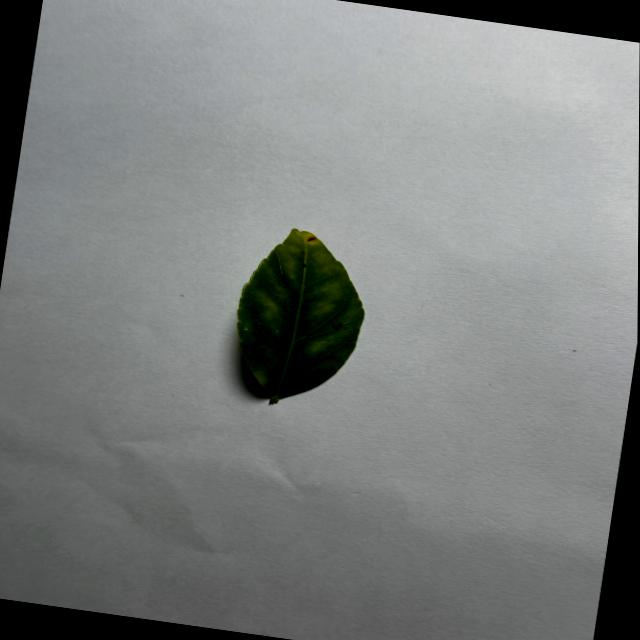greening: (237, 228, 363, 402)
